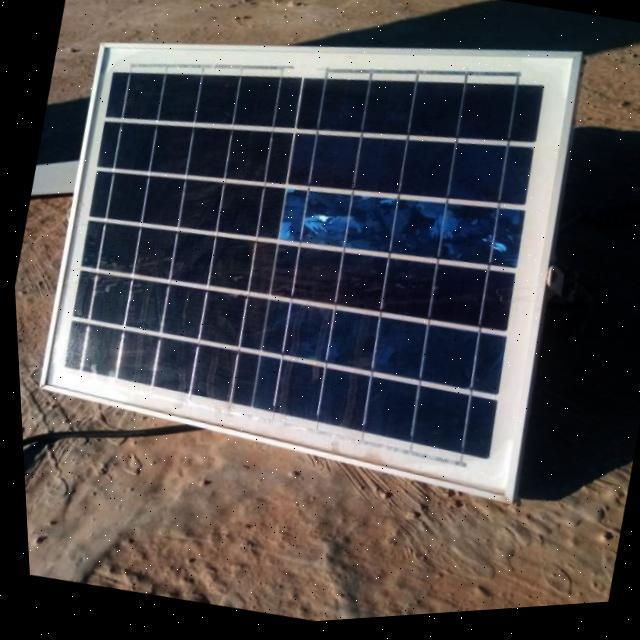Normal Solar Panel: (11, 0, 604, 533)
